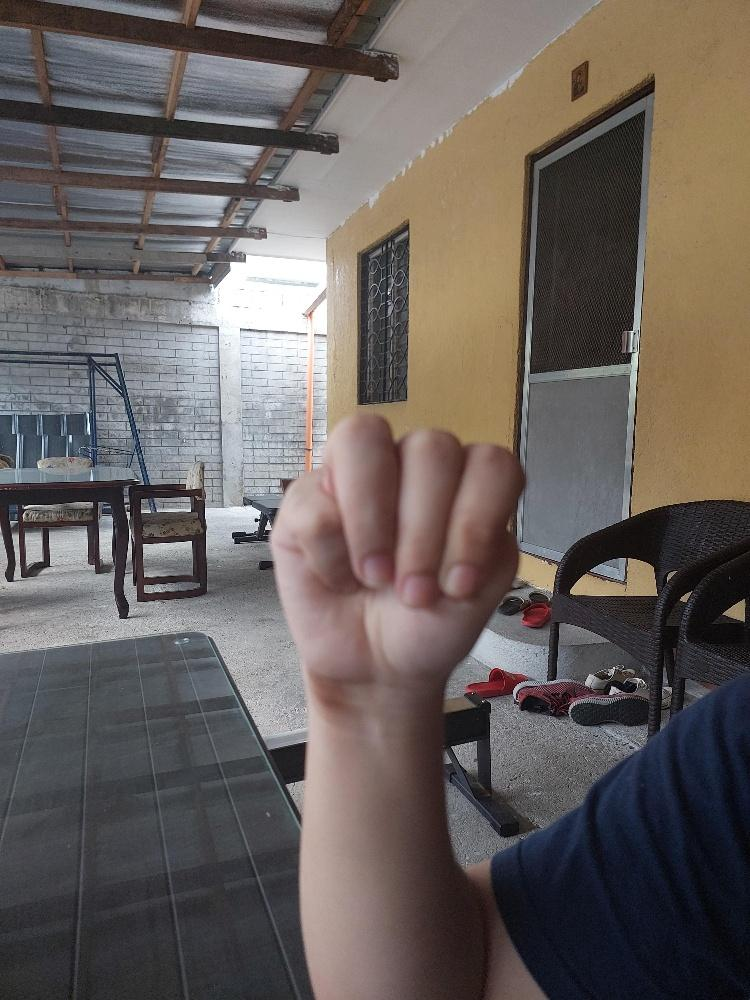m: (267, 405, 533, 688)
